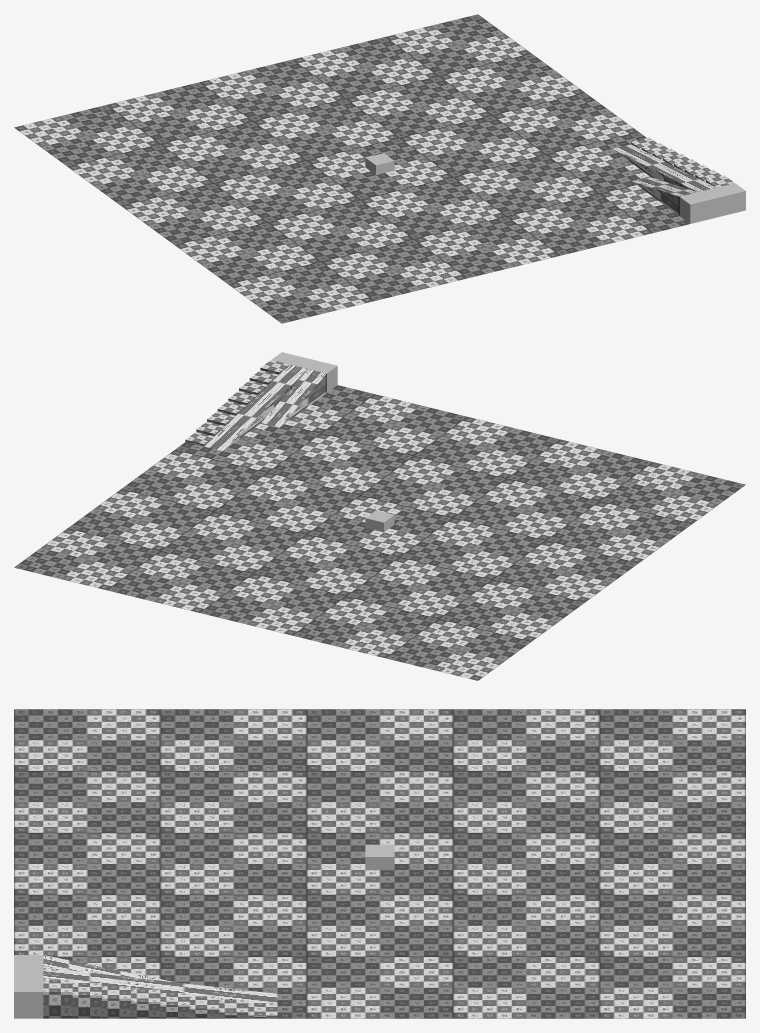
File: testPlayground.obj
3 renders of one model, top to bottom at view 1: azimuth 30°, elevation 25°; view 2: azimuth 150°, elevation 25°; view 3: azimuth 270°, elevation 25°, orthographic. The views are drawn at different scales.
Parts seen in each view (by area): view 1: Plane, Cube.010, Cube.008, Cube.009; view 2: Plane, Cube.008, Cube.009, Cube.010; view 3: Plane, Cube.008, Cube.010, Cube, Cube.001, Cube.002, Cube.009, Cube.003, Cube.011, Cube.004, Cube.005, Cube.006.
Part boxes in pixels (x1=…): Plane: x1=14, y1=14, x2=689, y2=323; Cube.010: x1=679, y1=183, x2=745, y2=223; Cube.008: x1=613, y1=144, x2=716, y2=191; Cube.009: x1=633, y1=177, x2=697, y2=215; Plane: x1=14, y1=385, x2=745, y2=680; Cube.008: x1=204, y1=364, x2=307, y2=450; Cube.009: x1=261, y1=369, x2=326, y2=427; Cube.010: x1=271, y1=352, x2=337, y2=392; Plane: x1=14, y1=709, x2=745, y2=1018; Cube.008: x1=43, y1=967, x2=277, y2=1002; Cube.010: x1=14, y1=955, x2=43, y2=1018; Cube: x1=43, y1=979, x2=72, y2=1018; Cube.001: x1=72, y1=983, x2=101, y2=1018; Cube.002: x1=102, y1=986, x2=130, y2=1018; Cube.009: x1=43, y1=955, x2=171, y2=981; Cube.003: x1=131, y1=989, x2=160, y2=1018; Cube.011: x1=365, y1=844, x2=394, y2=870; Cube.004: x1=160, y1=993, x2=189, y2=1018; Cube.005: x1=189, y1=996, x2=218, y2=1018; Cube.006: x1=219, y1=999, x2=248, y2=1018.
Size of the model in its own units: 50 by 3 by 50.
Materials: 2 (1 with a texture image).
